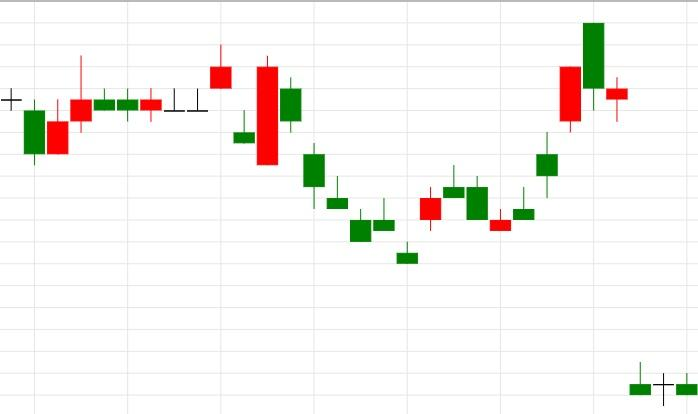three_black_crows_fall: (233, 56, 349, 210)
